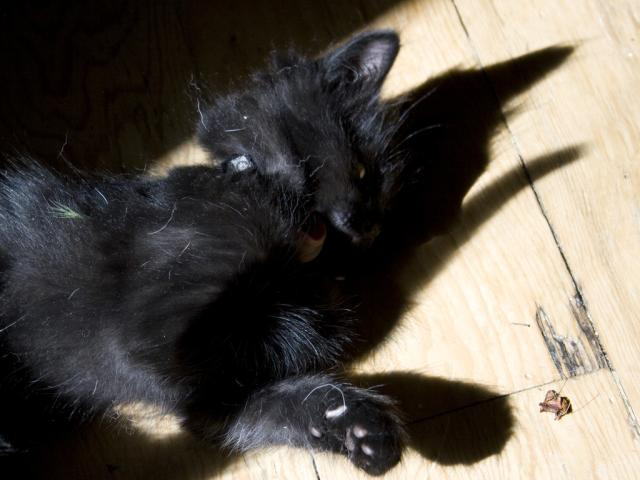Cat: (0, 30, 432, 475)
